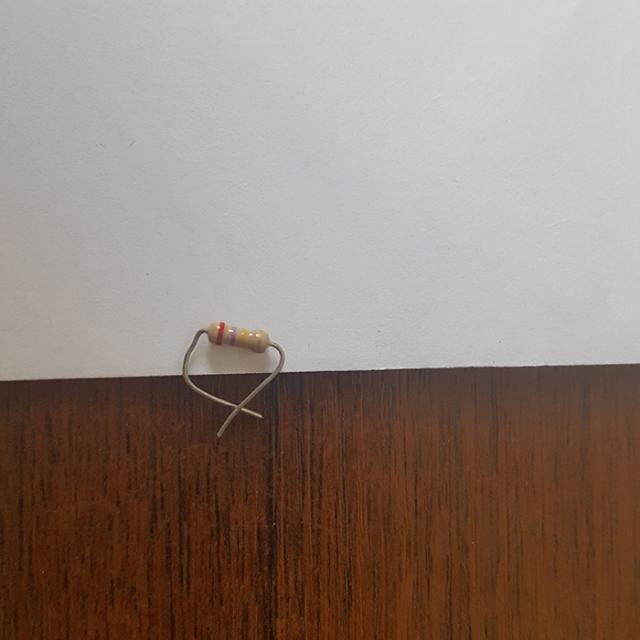gold: (255, 330, 262, 352)
red: (216, 321, 225, 344)
resistor: (202, 307, 284, 367)
violet: (230, 327, 237, 344)
yellow: (240, 328, 246, 346)
